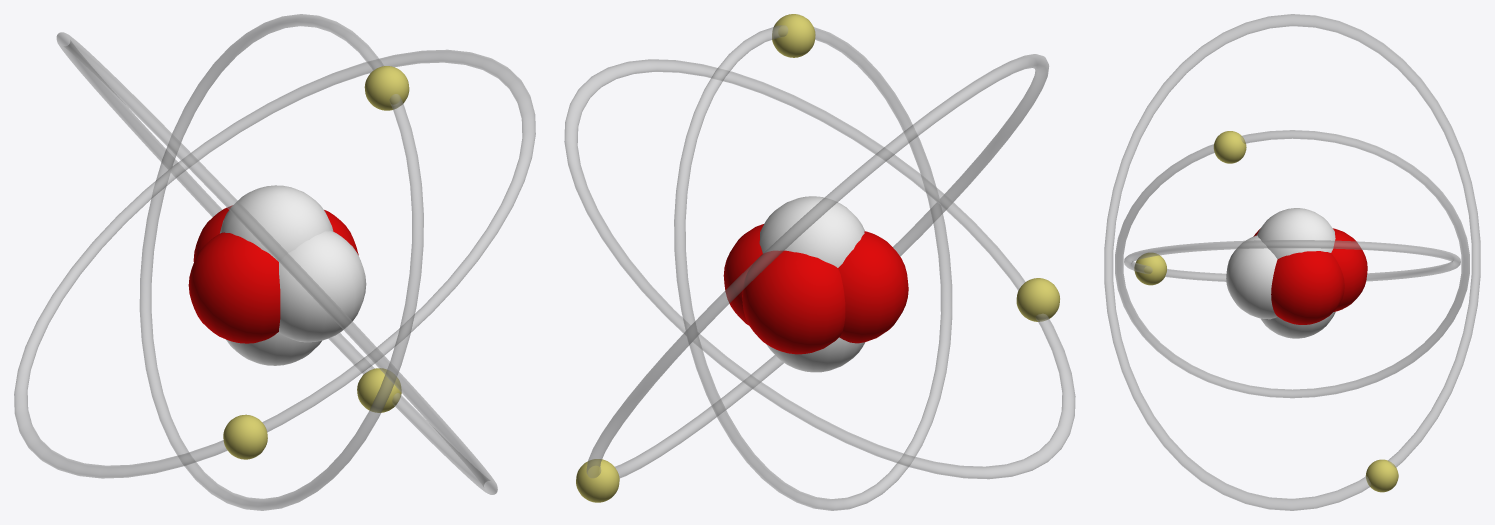
File: atom.fbx
The picture shows the model from 3 angles, left to right: view 1: azimuth 30°, elevation 25°; view 2: azimuth 150°, elevation 25°; view 3: azimuth 270°, elevation 25°; orthographic projection. The views are drawn at different scales.
Visible parts, largest first — view 1: pTorus1, pTorus3, pTorus2, pSphere1, pSphere5, pSphere4, pSphere3, pSphere8, pSphere9, pSphere7, pSphere6; view 2: pTorus1, pTorus3, pTorus2, pSphere6, pSphere1, pSphere4, pSphere2, pSphere3, pSphere7, pSphere9, pSphere8; view 3: pTorus2, pTorus3, pSphere2, pTorus1, pSphere5, pSphere4, pSphere6, pSphere3, pSphere7, pSphere9, pSphere8.
Boxes of the visible parts, x1,y1,x2,y2 form: pTorus1: (14, 49, 535, 478); pTorus3: (139, 14, 423, 510); pTorus2: (56, 32, 497, 494); pSphere1: (188, 232, 280, 343); pSphere5: (279, 230, 366, 342); pSphere4: (220, 185, 333, 261); pSphere3: (226, 332, 321, 365); pSphere8: (223, 414, 267, 459); pSphere9: (364, 66, 409, 110); pSphere7: (357, 368, 401, 412); pSphere6: (193, 205, 232, 261); pTorus1: (564, 59, 1075, 479); pTorus3: (674, 25, 952, 510); pTorus2: (586, 54, 1048, 477); pSphere6: (742, 250, 845, 354); pSphere1: (838, 231, 908, 343); pSphere4: (759, 196, 864, 267); pSphere2: (723, 224, 763, 325); pSphere3: (766, 337, 864, 372); pSphere7: (576, 459, 619, 502); pSphere9: (772, 14, 815, 57); pSphere8: (1016, 278, 1059, 321); pTorus2: (1104, 14, 1480, 510); pTorus3: (1115, 130, 1469, 398); pSphere2: (1271, 251, 1344, 324); pTorus1: (1124, 240, 1460, 281); pSphere5: (1226, 235, 1277, 319); pSphere4: (1257, 208, 1335, 259); pSphere6: (1331, 228, 1367, 311); pSphere3: (1260, 311, 1335, 338); pSphere7: (1365, 459, 1398, 492); pSphere9: (1213, 131, 1246, 163); pSphere8: (1134, 253, 1166, 285).
Size of the model in its own units: 9.27 by 9.41 by 8.8.
